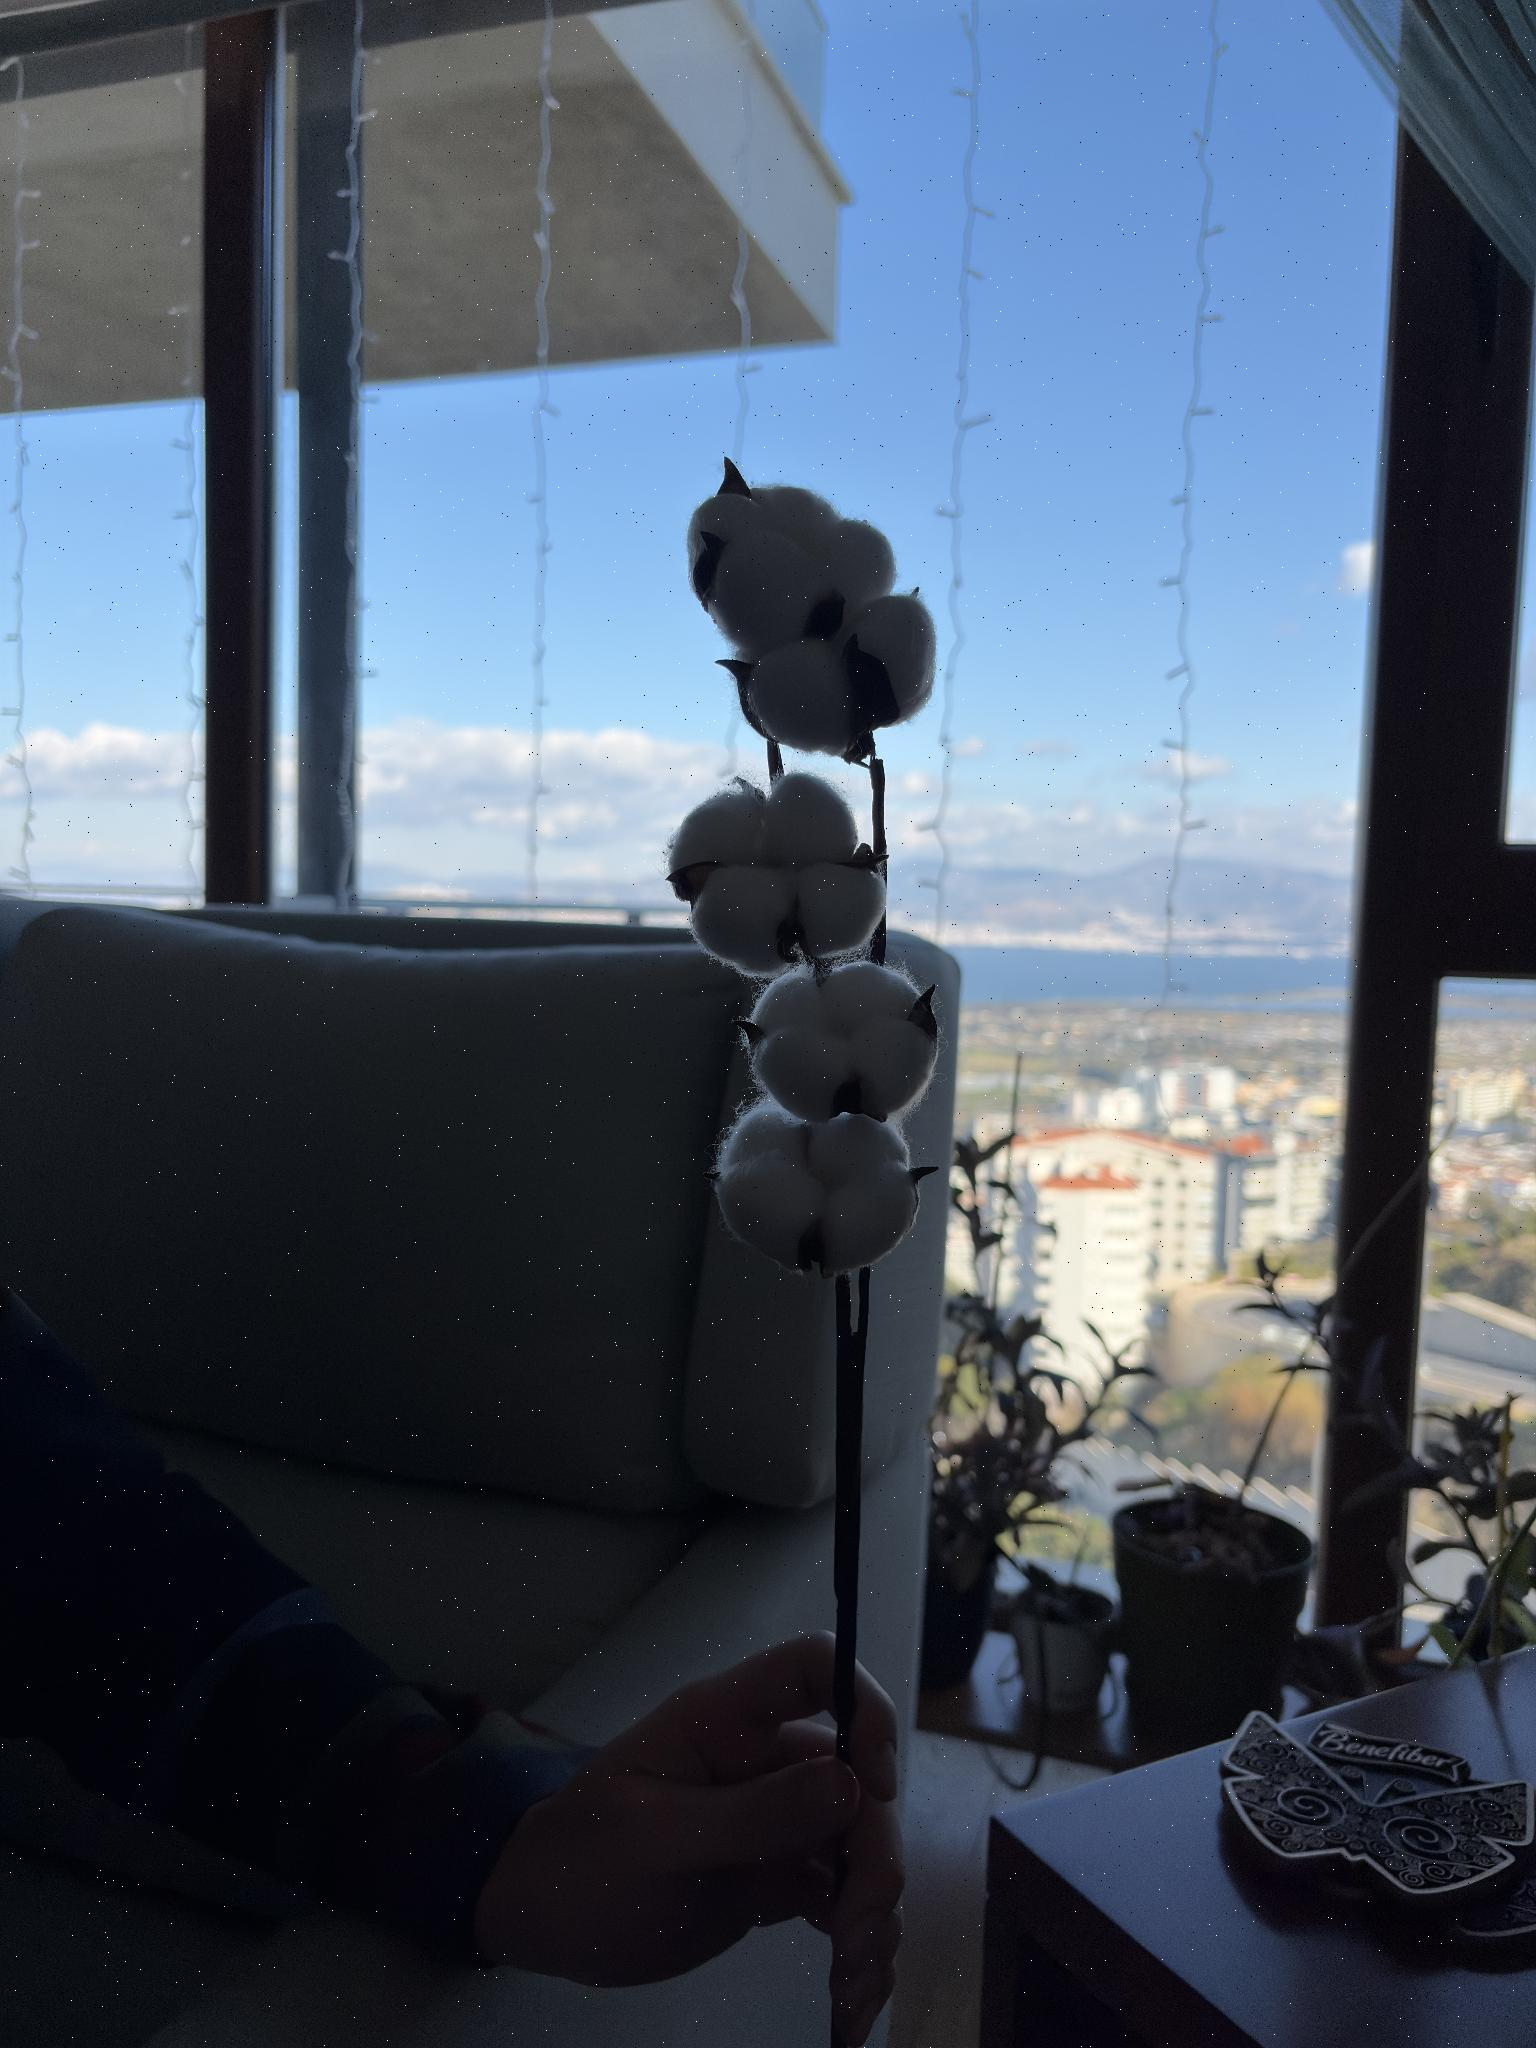cotton_boll: (707, 531, 831, 660), (747, 639, 855, 756), (716, 1158, 823, 1268), (692, 864, 797, 976), (849, 593, 936, 722), (821, 1166, 918, 1272), (752, 1026, 852, 1121), (812, 518, 895, 626), (666, 785, 766, 876), (765, 772, 857, 868), (797, 863, 884, 956), (849, 1021, 936, 1114), (807, 1113, 908, 1187), (820, 961, 916, 1034), (716, 1100, 807, 1174), (752, 485, 839, 545), (687, 492, 765, 550), (752, 969, 823, 1030)
cotton_boll-cluster: (686, 484, 939, 758), (665, 769, 889, 979), (715, 1098, 920, 1276), (749, 958, 939, 1124)
